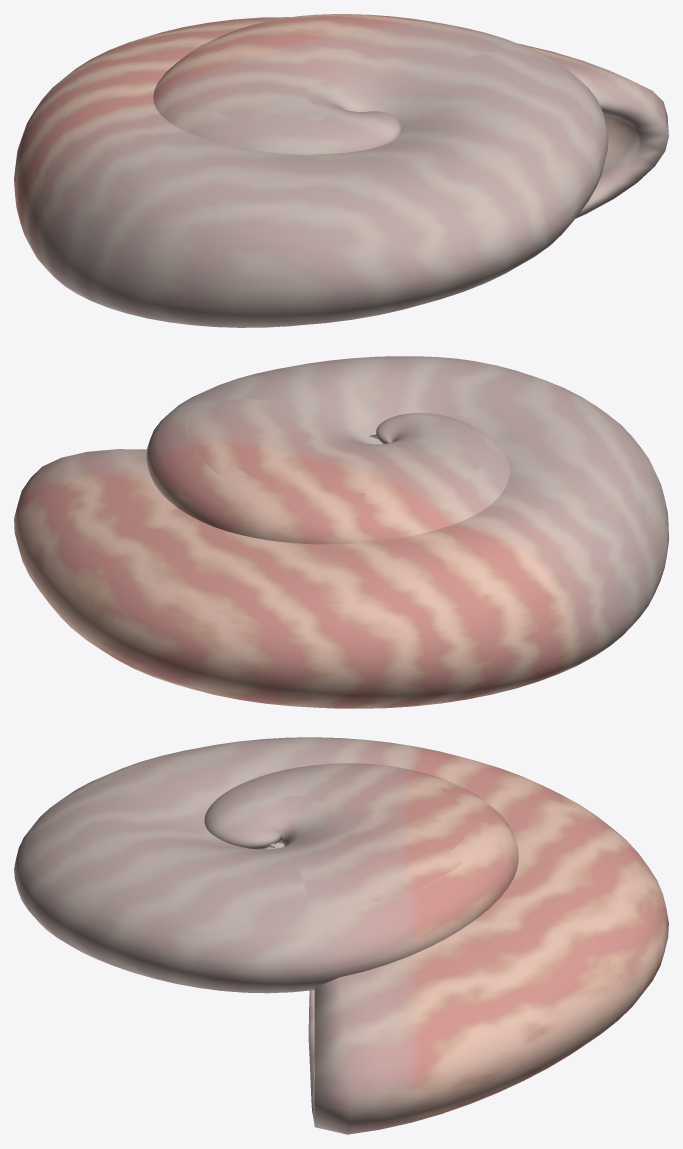
Rendered from seashell pink.fbx.
The picture shows the model from 3 angles, top to bottom: view 1: azimuth 30°, elevation 25°; view 2: azimuth 150°, elevation 25°; view 3: azimuth 270°, elevation 25°; orthographic projection. The views are drawn at different scales.
Visible parts, largest first — view 1: shell; view 2: shell; view 3: shell.
Boxes of the visible parts, x1,y1,x2,y2 form: shell: (14, 14, 668, 327); shell: (14, 356, 668, 708); shell: (14, 737, 668, 1134).
Bounding box in the file's own units: 685 × 225 × 637.
1 material, 1 textured.
